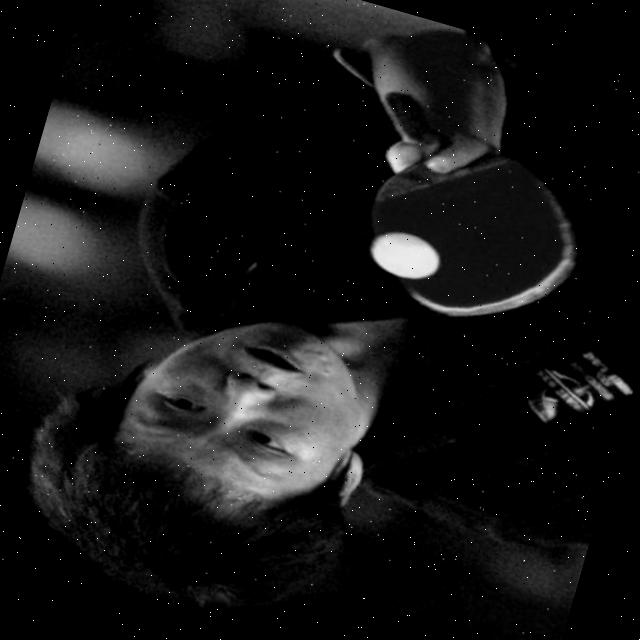ping-pong-ball: (356, 220, 444, 288)
